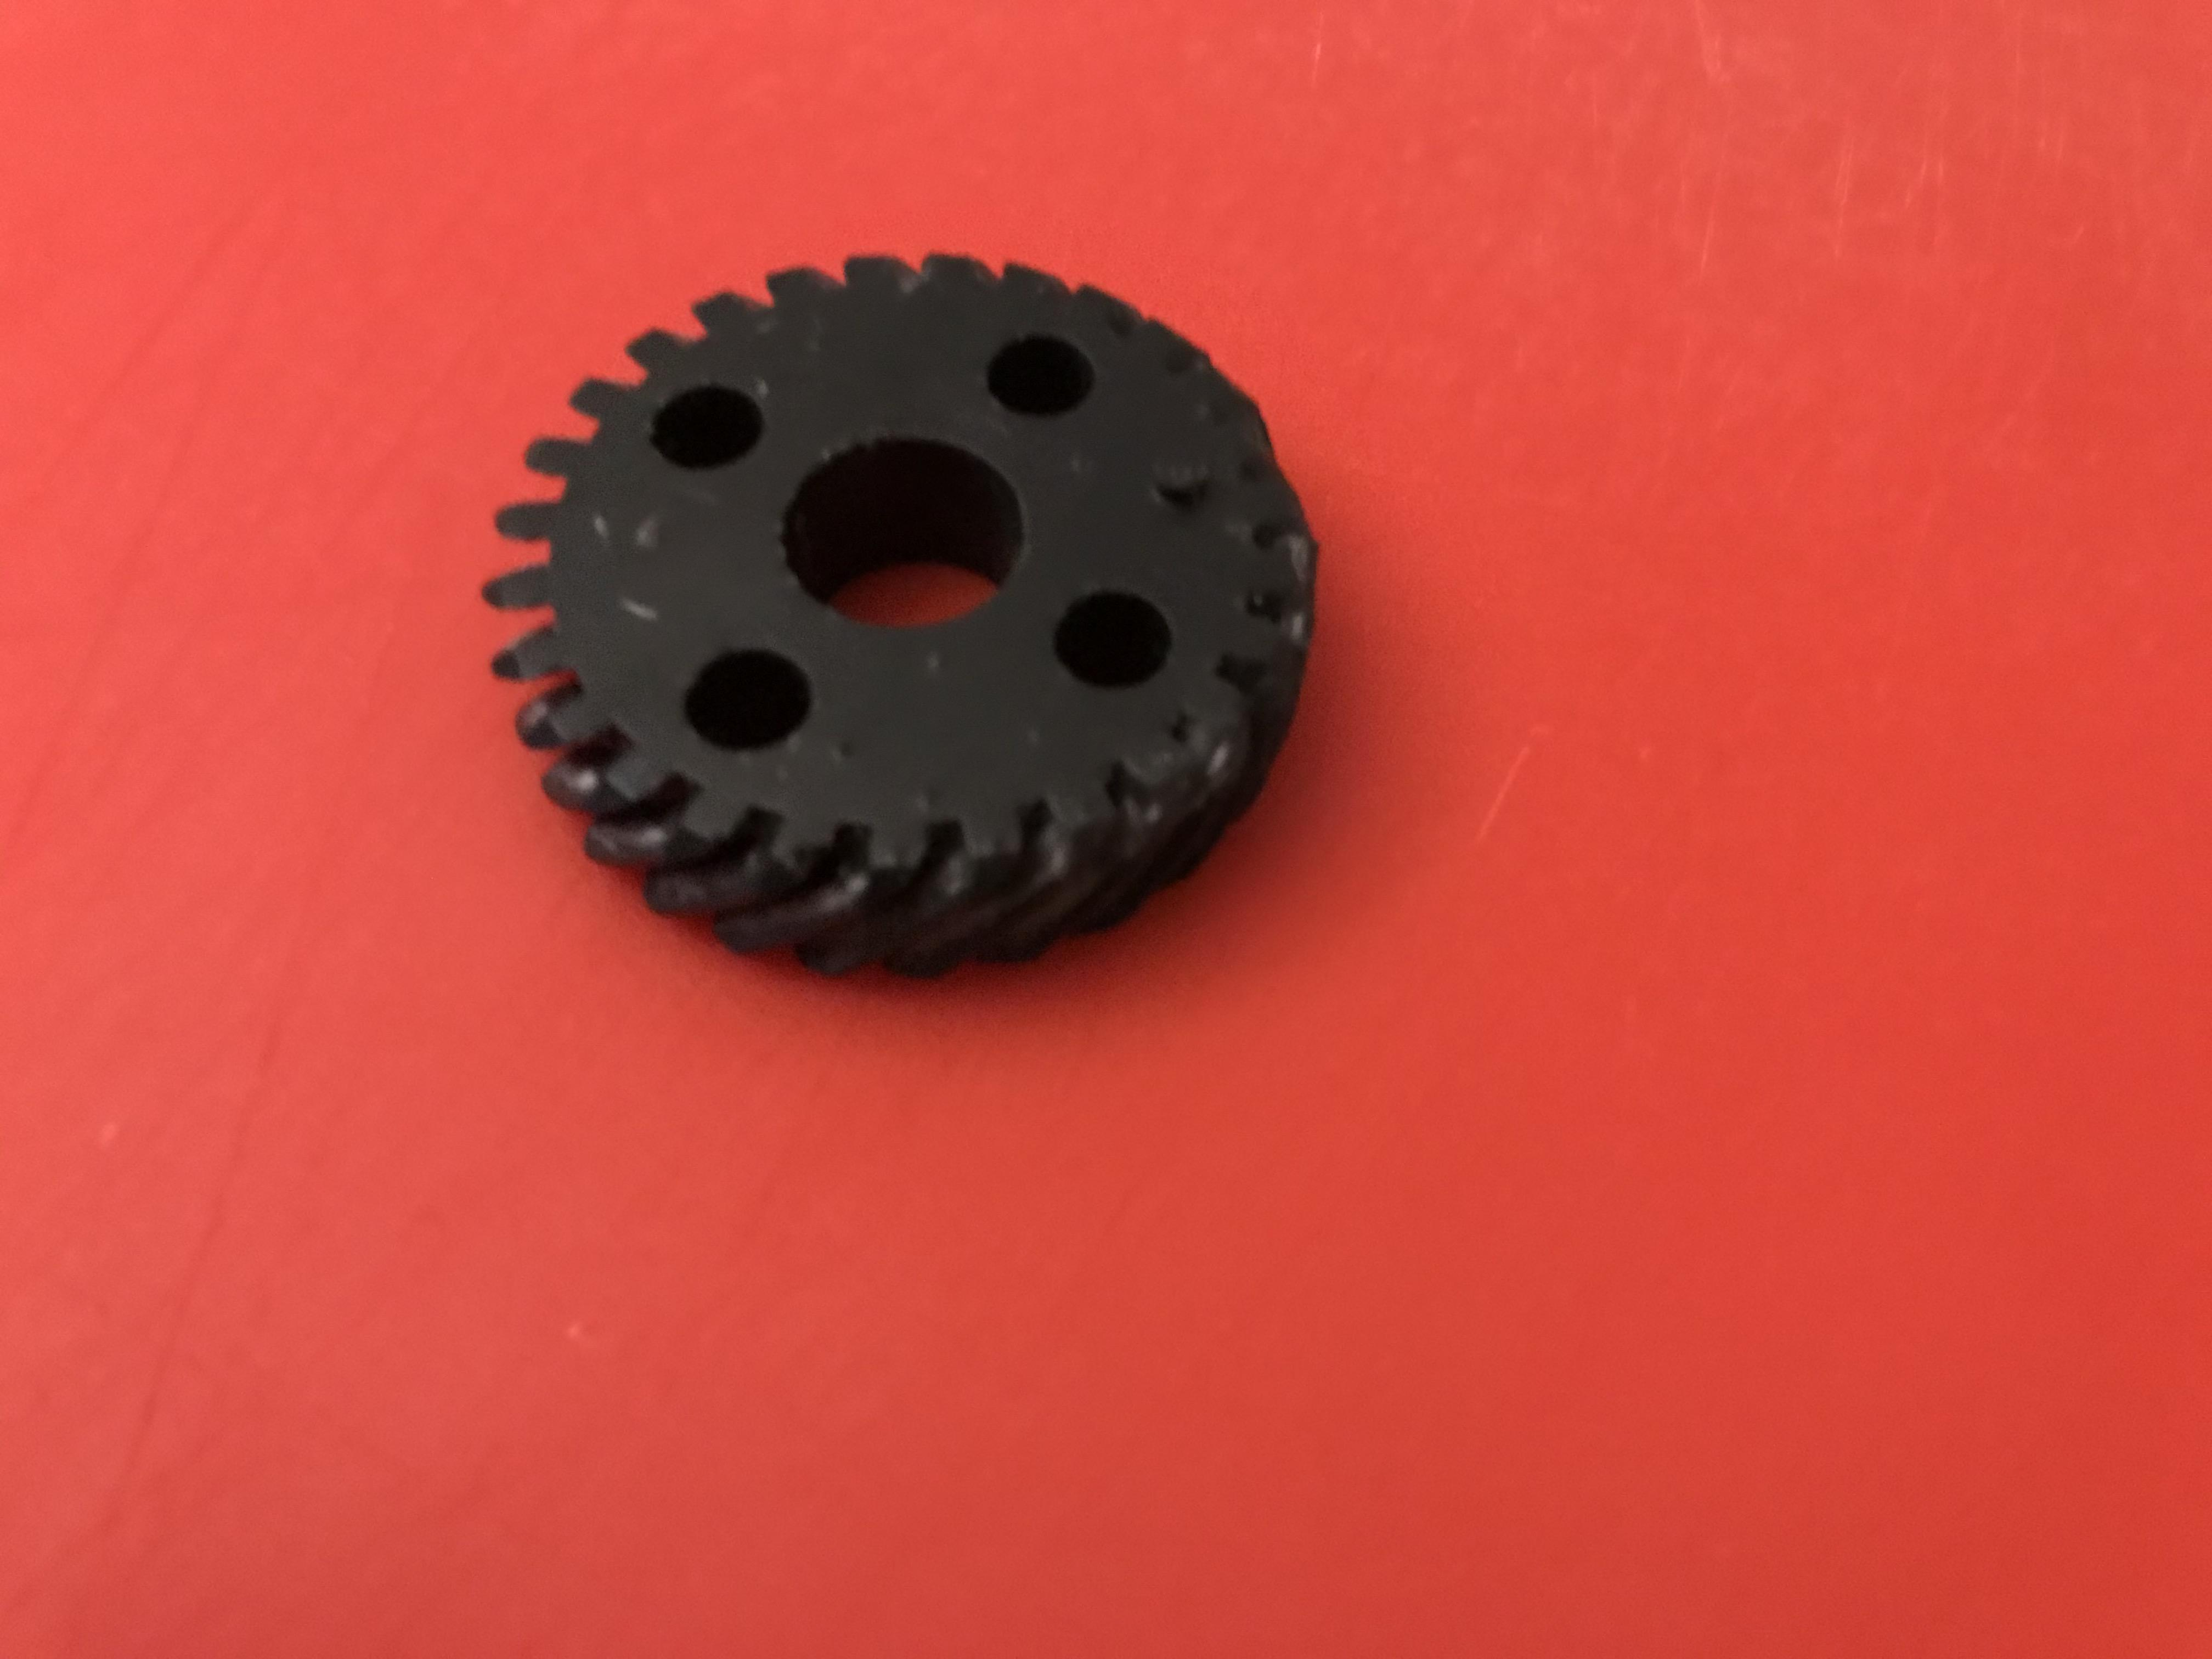Wheel: (472, 246, 1338, 990)
